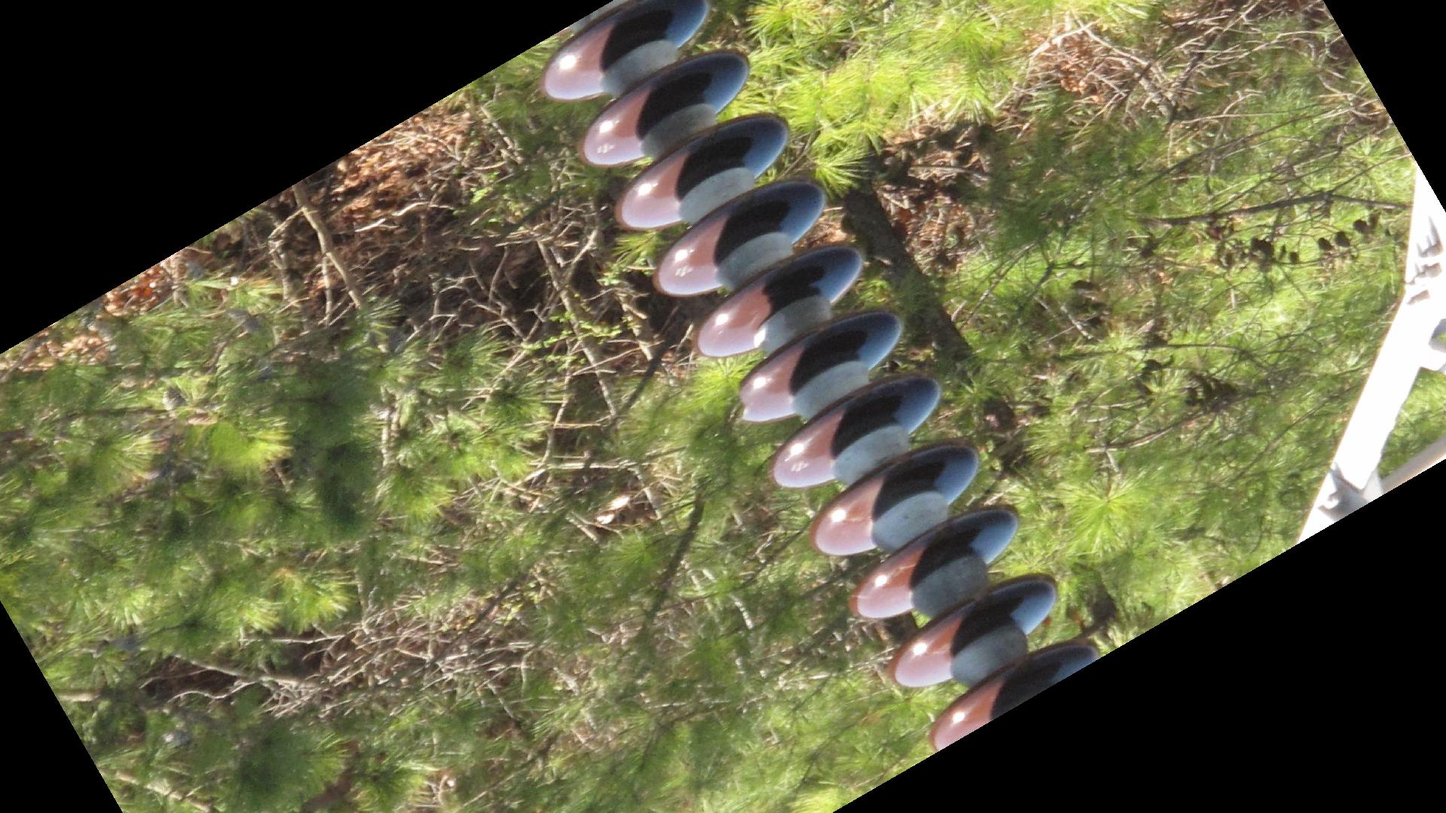insulator: (532, 1, 1111, 758)
insulator_breakage: (732, 377, 761, 426)
